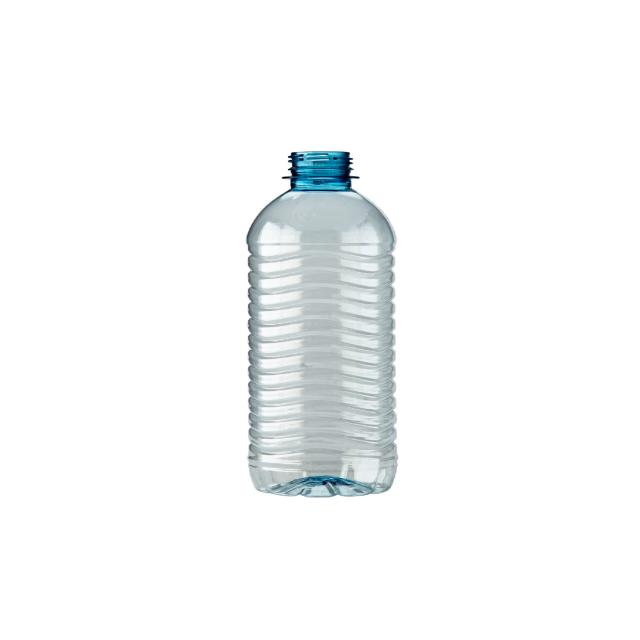bottle: (247, 151, 397, 498)
